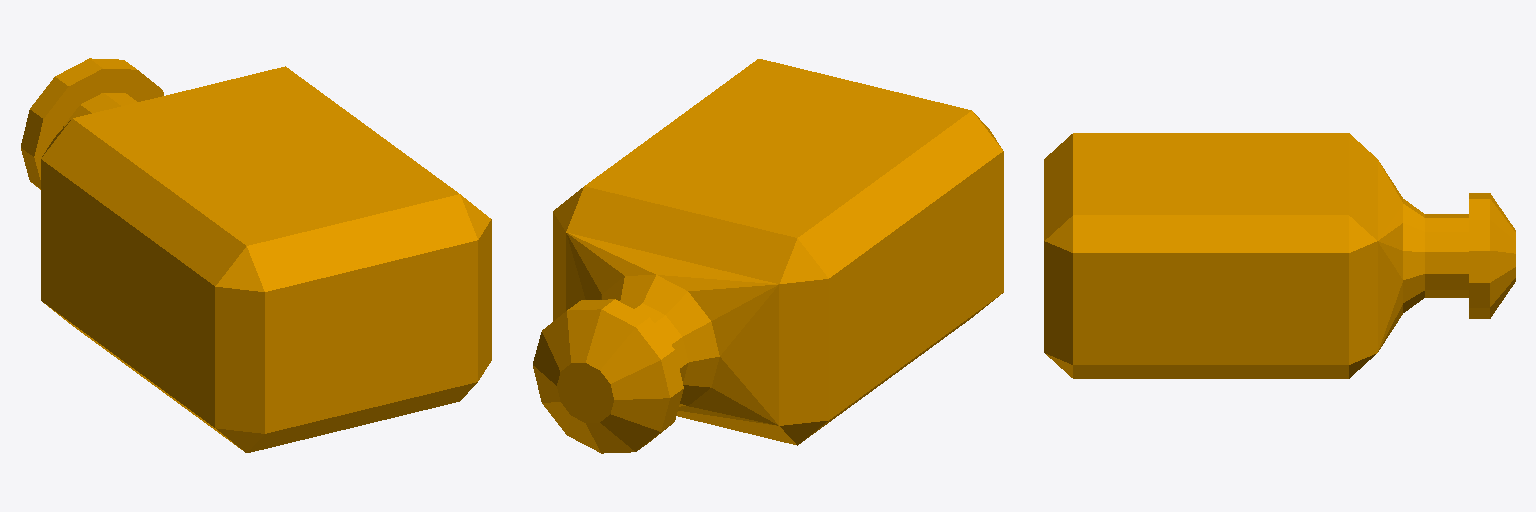
URDF robot description (bottle):
<?xml version="1.0"?>
<robot name="bottle">

  <link name="body">
    <visual>
      <origin rpy="0 0 0" xyz="0 0.75 0.00"/>
      <geometry>
        <mesh filename="potionbottlesolid.obj"/>
      </geometry>
    </visual>
    <visual>
      <origin rpy="0 0 0" xyz="0 0.75 0.00"/>
      <geometry>
        <mesh filename="potionbottleglass.obj"/>
      </geometry>
    </visual>

    <collision>  <!-- floor -->
      <geometry>
        <box size="2.42 3.10 1.77"/>
      </geometry>
      <origin rpy="0 0 0" xyz="0 0 0.00"/>
    </collision>
    <collision>
      <geometry>
        <box size="1.42 0.54 1.42"/>
      </geometry>
      <origin rpy="0 0 0" xyz="0 1.8 0.00"/>
    </collision>
    <collision>
      <geometry>
        <cylinder radius="0.40" length="1.0"/>
      </geometry>
      <origin rpy="1.57 0 0" xyz="0 2.55 0.00"/>
    </collision>
    <collision>
      <geometry>
        <cylinder radius="0.60" length="0.3"/>
      </geometry>
      <origin rpy="1.57 0 0" xyz="0 2.8 0.00"/>
    </collision>

    <inertial>
      <mass value="0.5"/>
      <inertia ixx="0.1" ixy="0.0" ixz="0.0" iyy="0.1" iyz="0.0" izz="0.1"/>
    </inertial>
  </link>

</robot>

--- Facts derived from the render (not from the file) ---
Views: 3 orthographic renders of the robot side by side, from view 1: azimuth 30°, elevation 25°; view 2: azimuth 150°, elevation 25°; view 3: azimuth 270°, elevation 25°.
Robot: bottle — 1 links, 0 joints (none); root link body; default pose: all joints at 0.
Links seen in each view (by area): view 1: body; view 2: body; view 3: body.
Boxes of the visible links, x1,y1,x2,y2 form: body: (21,58,491,452); body: (533,59,1003,453); body: (1044,133,1515,378).
Size in the robot's own frame: 2.48 by 4.64 by 1.78 metres.
Meshes: 2 distinct files referenced, 2 mesh visuals loaded (2 OBJ).